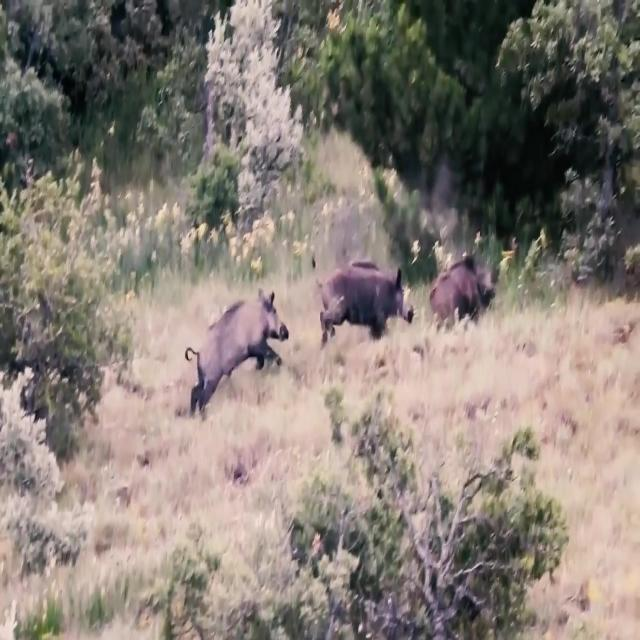pig: (305, 250, 411, 368), (178, 289, 290, 389), (425, 255, 508, 356)
